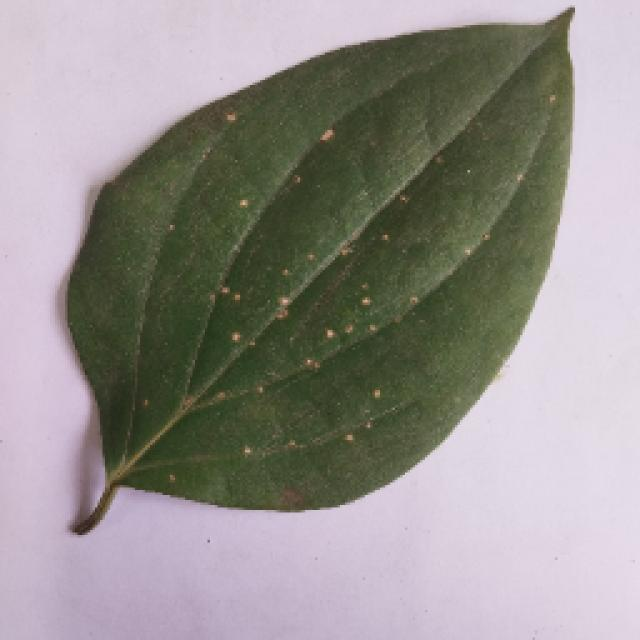pollu-disease: (40, 15, 595, 543)
